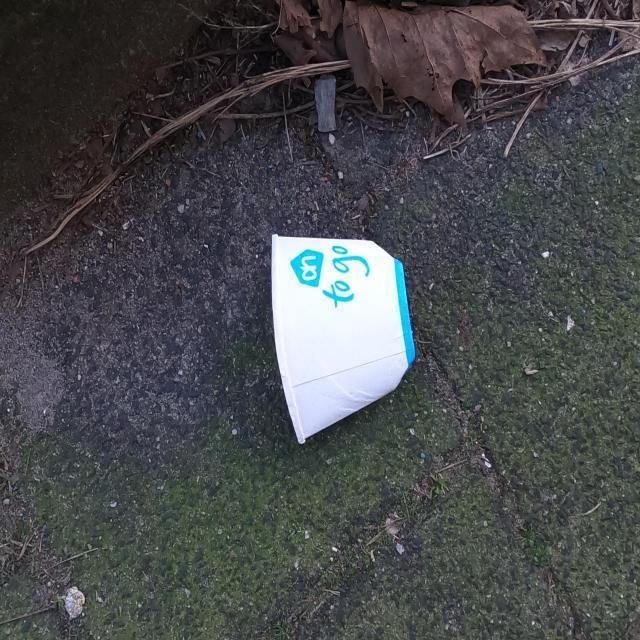Cup: (268, 230, 421, 448)
